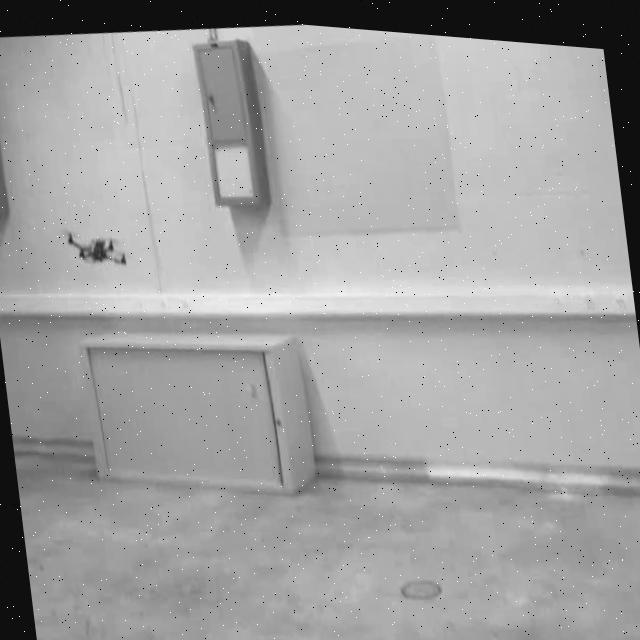drone: (56, 216, 128, 273)
